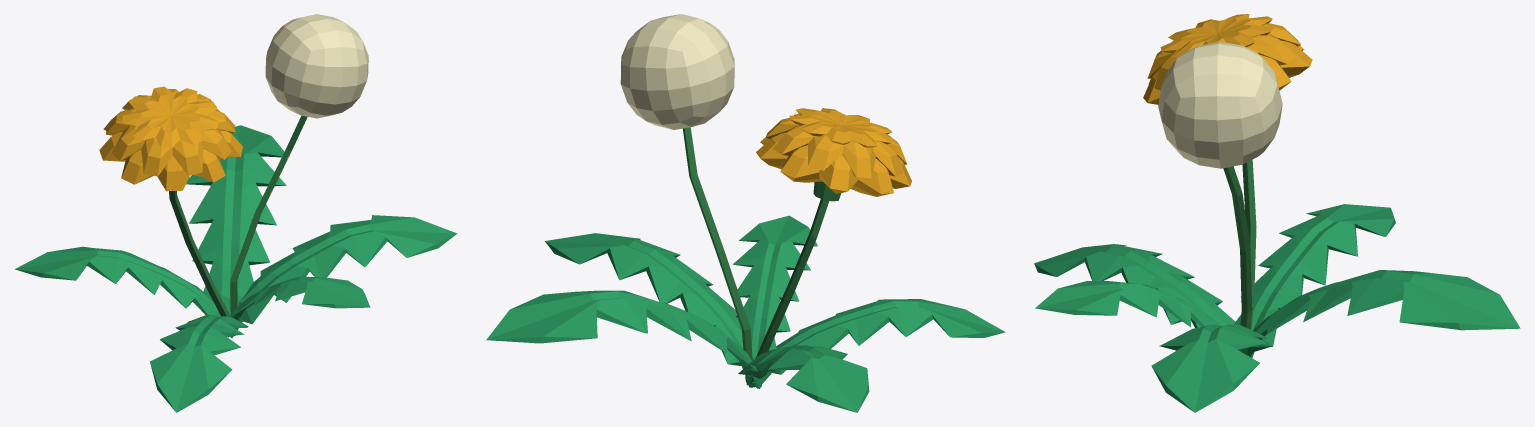
File: 3D_Model_Dandelion_LP_v2.fbx
3 views of the same model, side by side, from view 1: azimuth 30°, elevation 25°; view 2: azimuth 150°, elevation 25°; view 3: azimuth 270°, elevation 25° (orthographic). The views are drawn at different scales.
Visible parts, largest first — view 1: dandelion_02; view 2: dandelion_02; view 3: dandelion_02.
Part boxes in pixels (<box>): dandelion_02: <box>15,14,457,412</box>; dandelion_02: <box>486,14,1005,412</box>; dandelion_02: <box>1034,14,1520,412</box>.
Size of the model in its own units: 212 by 170 by 204.
